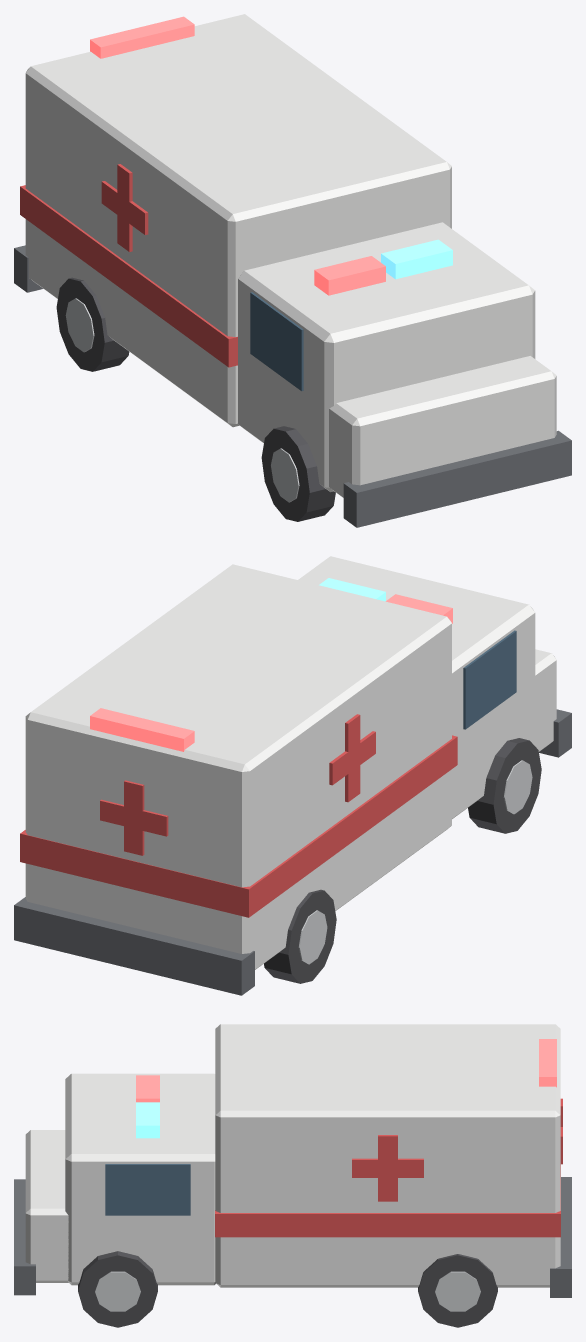
Rendered from ambulance.glb.
3 views of the same model, one above another, from view 1: azimuth 30°, elevation 25°; view 2: azimuth 150°, elevation 25°; view 3: azimuth 270°, elevation 25° (orthographic). The views are drawn at different scales.
Parts seen in each view (by area): view 1: med_box, cab_body, cab_hood, bumper_f, stripe, tire_-0.98_-1.85, cab_side_win, tire_-0.98_1.55, bar_rear, bar_l, bar_r, cross_v (+4 smaller); view 2: med_box, cab_body, stripe, bumper_r, tire_-0.98_-1.85, cab_side_win, tire_-0.98_1.55, bar_rear, cab_hood, cross_back_h, cross_v, cross_back_v (+6 smaller); view 3: med_box, cab_body, stripe, cab_hood, cab_side_win, tire_0.98_-1.85, tire_0.98_1.55, bumper_f, bumper_r, rim_0.98_-1.85, rim_0.98_1.55, cross_h (+4 smaller).
Part boxes in pixels (x1,y1,x2,y2): med_box: [25, 14, 451, 427]; cab_body: [238, 222, 535, 492]; cab_hood: [329, 356, 556, 497]; bumper_f: [343, 430, 571, 527]; stripe: [20, 185, 237, 367]; tire_-0.98_-1.85: [261, 426, 335, 521]; cab_side_win: [250, 292, 303, 391]; tire_-0.98_1.55: [56, 277, 129, 371]; bar_rear: [90, 16, 194, 58]; bar_l: [314, 256, 385, 295]; bar_r: [381, 239, 452, 279]; cross_v: [117, 164, 132, 251]; med_box: [25, 564, 451, 969]; cab_body: [298, 556, 535, 818]; stripe: [20, 735, 457, 917]; bumper_r: [14, 897, 254, 995]; tire_-0.98_-1.85: [468, 738, 541, 833]; cab_side_win: [463, 630, 516, 729]; tire_-0.98_1.55: [264, 889, 336, 983]; bar_rear: [90, 708, 194, 751]; cab_hood: [535, 649, 556, 751]; cross_back_h: [100, 799, 168, 836]; cross_v: [345, 714, 360, 802]; cross_back_v: [124, 780, 144, 855]; med_box: [215, 1024, 560, 1287]; cab_body: [65, 1073, 215, 1285]; stripe: [215, 1164, 560, 1237]; cab_hood: [25, 1130, 68, 1282]; cab_side_win: [105, 1164, 190, 1215]; tire_0.98_-1.85: [78, 1251, 157, 1327]; tire_0.98_1.55: [418, 1254, 497, 1327]; bumper_f: [14, 1179, 35, 1295]; bumper_r: [550, 1177, 571, 1297]; rim_0.98_-1.85: [95, 1271, 140, 1311]; rim_0.98_1.55: [435, 1271, 480, 1311]; cross_h: [352, 1158, 423, 1177].
Bounding box in the file's own units: 2.24 × 2.46 × 5.58.
